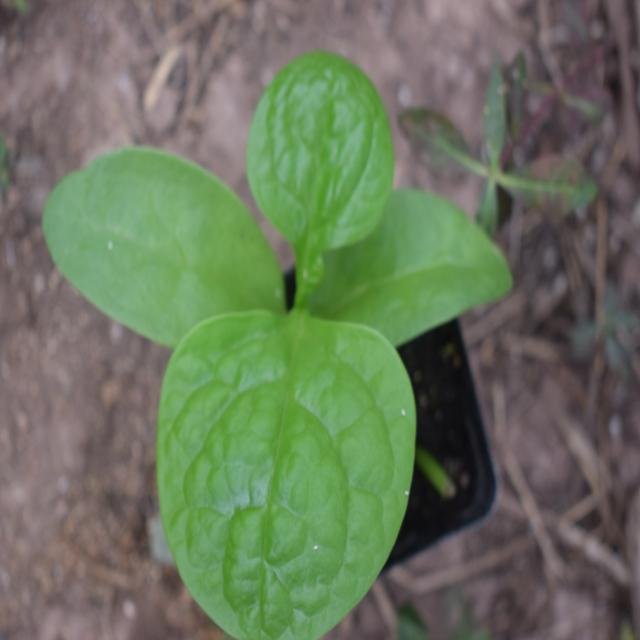Ceylon spinach: (100, 51, 434, 612)
